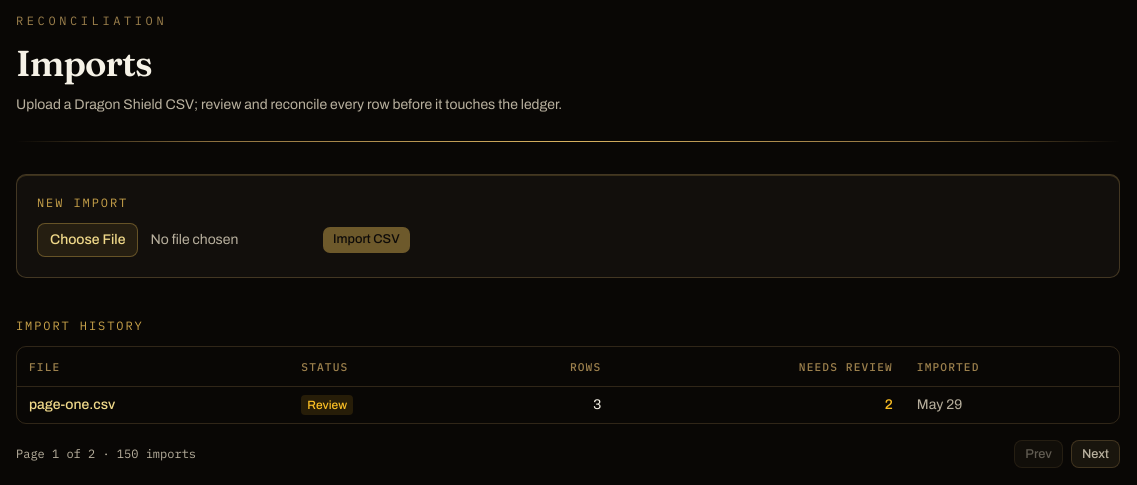
Scenario: ImportsPage › pages forward through the batch history
Expected: the link "page-one.csv" is shown, x1=29 y1=397 x2=115 y2=412
Click the button "Next": point(1095, 454) x1=1071 y1=440 x2=1120 y2=468
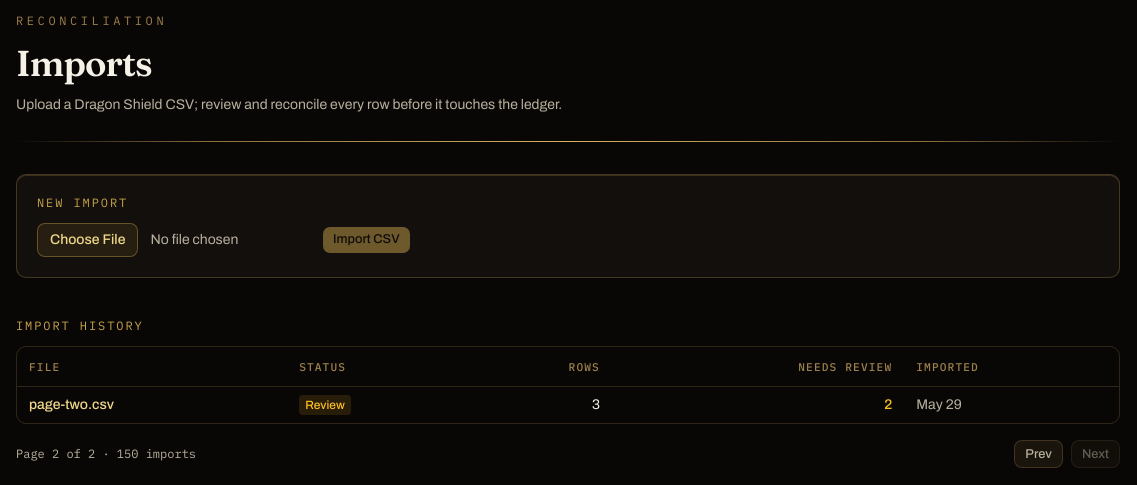
Expected: the link "page-two.csv" is shown, x1=29 y1=397 x2=114 y2=412
